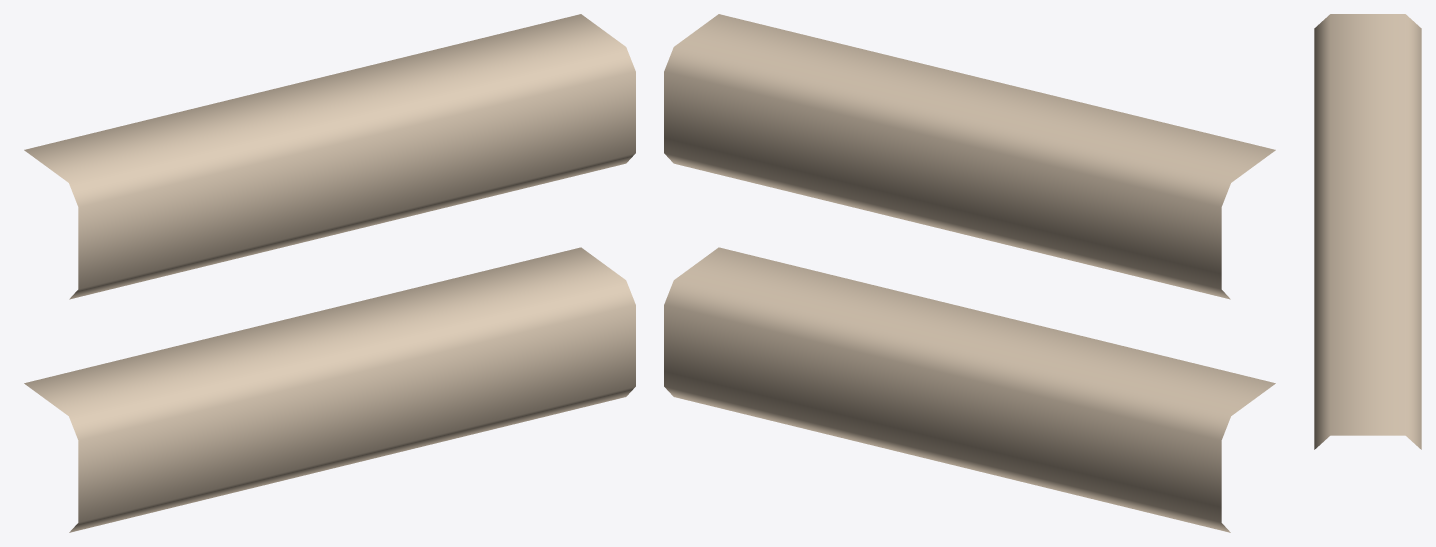
File: fence_rails.glb
The picture shows the model from 3 angles, left to right: view 1: azimuth 30°, elevation 25°; view 2: azimuth 150°, elevation 25°; view 3: azimuth 270°, elevation 25°; orthographic projection. The views are drawn at different scales.
Parts seen in each view (by area): view 1: fence_rails; view 2: fence_rails; view 3: fence_rails.
Boxes of the visible parts, x1,y1,x2,y2 form: fence_rails: (24, 14, 635, 532); fence_rails: (664, 14, 1275, 532); fence_rails: (1314, 14, 1421, 449).
Size of the model in its own units: 1 by 0.6 by 0.2.
